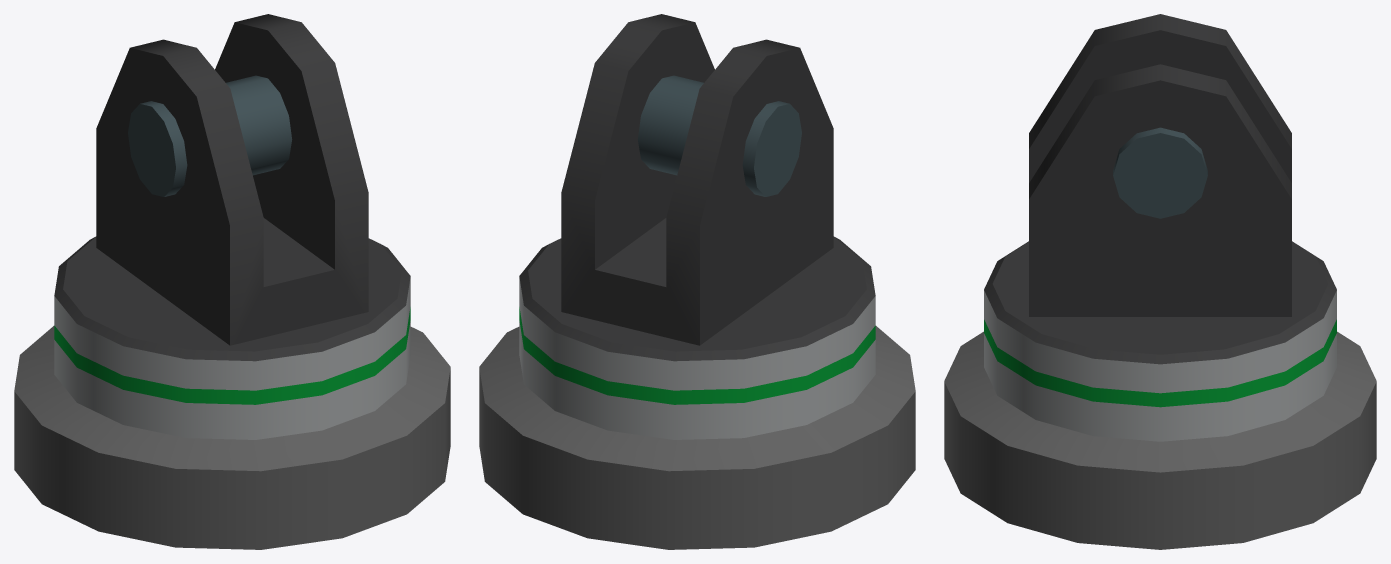
Rendered from Turret_002_Port_01.fbx.
3 views of the same model, side by side, from view 1: azimuth 30°, elevation 25°; view 2: azimuth 150°, elevation 25°; view 3: azimuth 270°, elevation 25° (orthographic).
Parts seen in each view (by area): view 1: Turret_002_Port_01; view 2: Turret_002_Port_01; view 3: Turret_002_Port_01.
Boxes of the visible parts, x1=… form: Turret_002_Port_01: x1=14, y1=14, x2=450, y2=549; Turret_002_Port_01: x1=479, y1=14, x2=915, y2=549; Turret_002_Port_01: x1=944, y1=14, x2=1376, y2=549.
Size of the model in its own units: 79.66 by 79.66 by 83.58.
